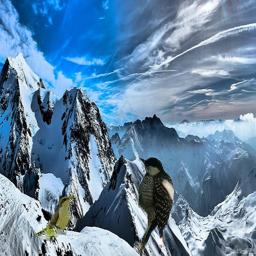Cuckoo: (36, 195, 75, 241)
Woodpecker: (137, 156, 174, 252)
